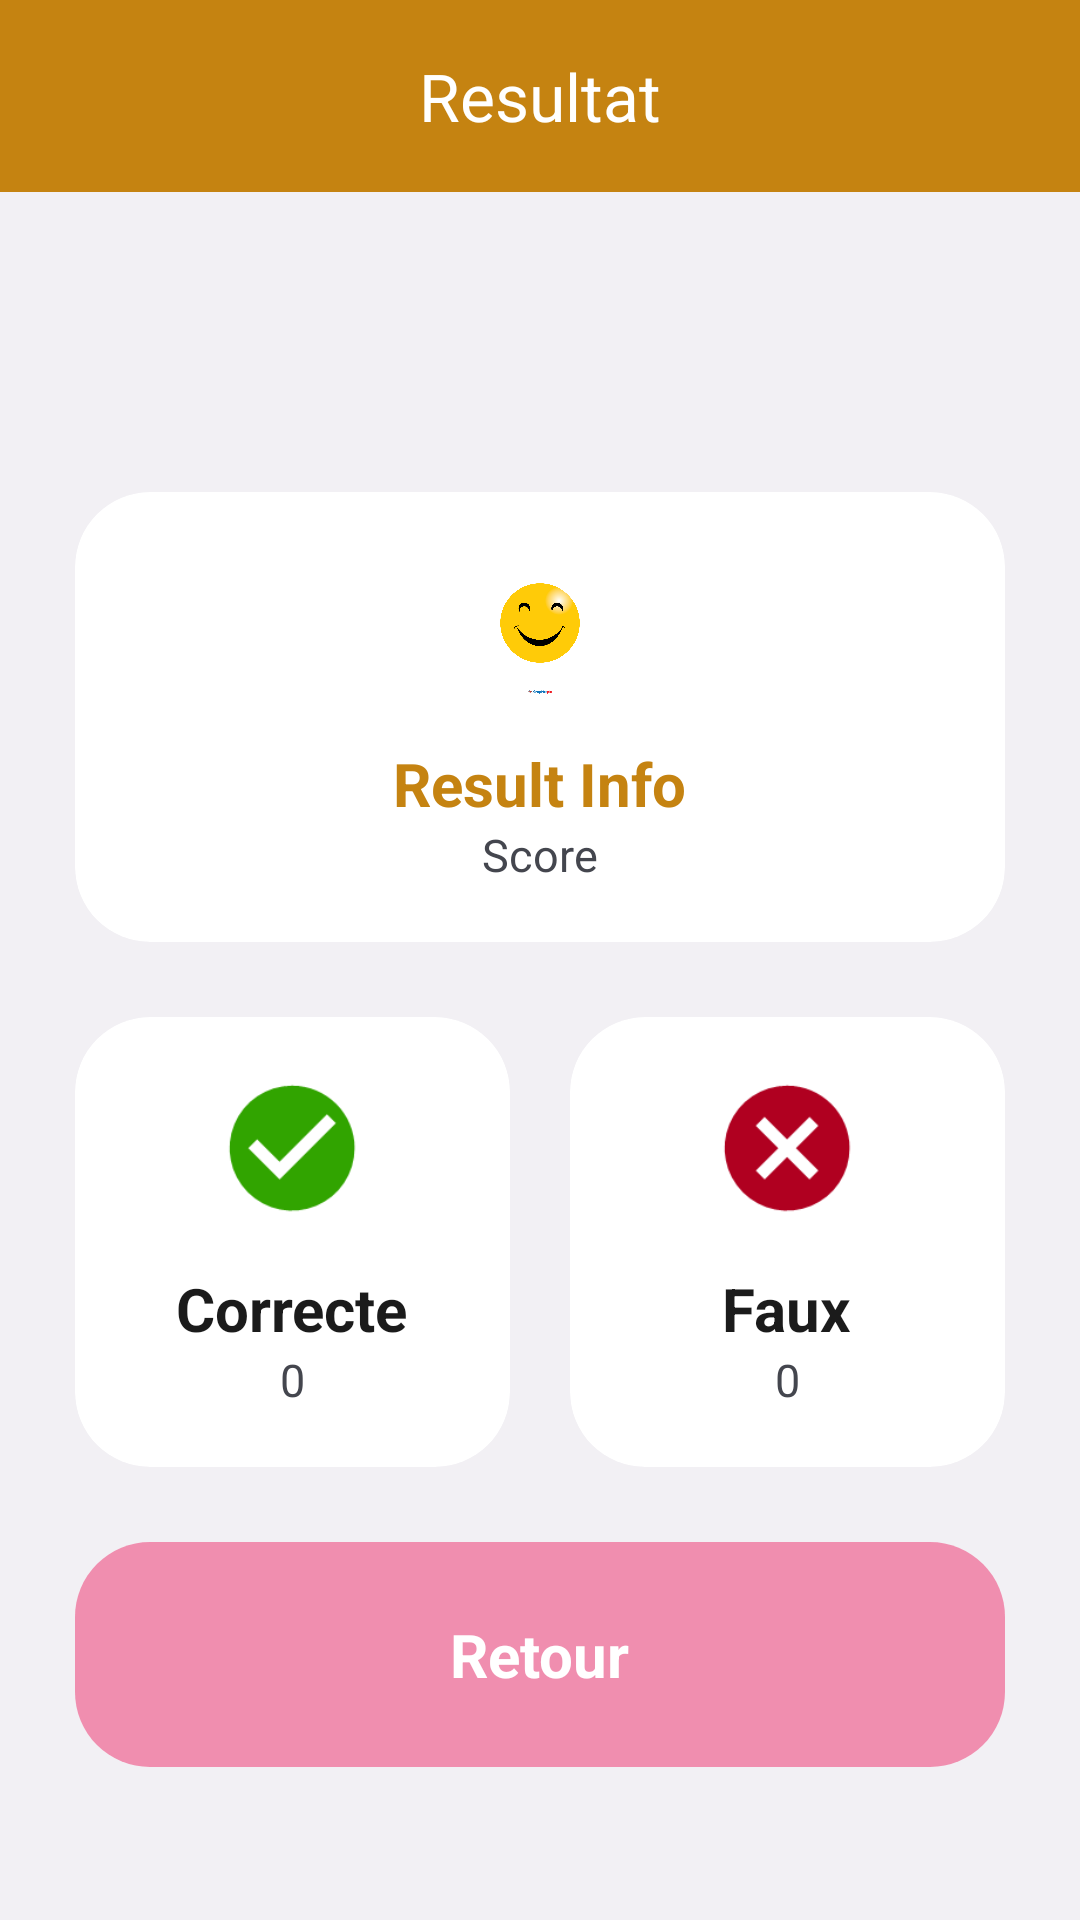

Where to tap for icons on this 1080 × 1920 app screen, as point (x, y):
smile: point (540, 638)
wrong: point (787, 1148)
